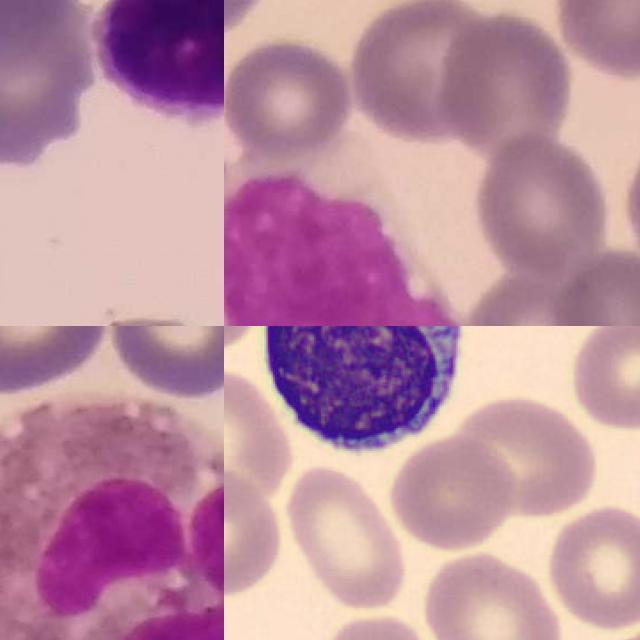Eosinophil: (0, 395, 224, 640)
Lymphocyte: (246, 326, 475, 466), (85, 0, 224, 121)
Monocyte: (224, 141, 473, 326)
RBC: (282, 460, 412, 615), (446, 393, 600, 521), (385, 432, 519, 552), (417, 548, 566, 640), (541, 502, 640, 632), (224, 360, 296, 507), (564, 326, 640, 435), (224, 466, 287, 597), (307, 609, 444, 640), (580, 625, 640, 640)
